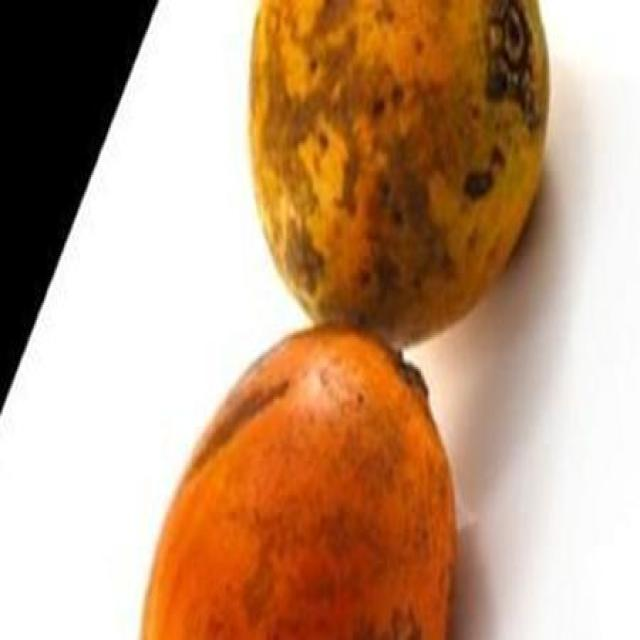good: (246, 0, 550, 356), (138, 326, 458, 638)
